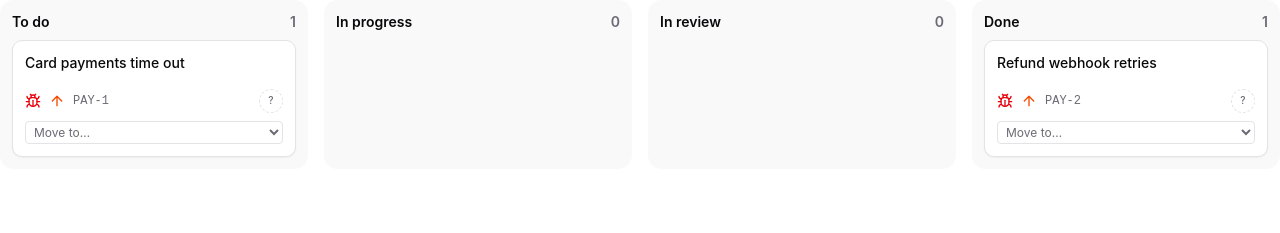
Board › shows the server message when a move fails
Select "In progress" in the dropdown named "Move PAY-1": x=154, y=132 [25,121,283,144]
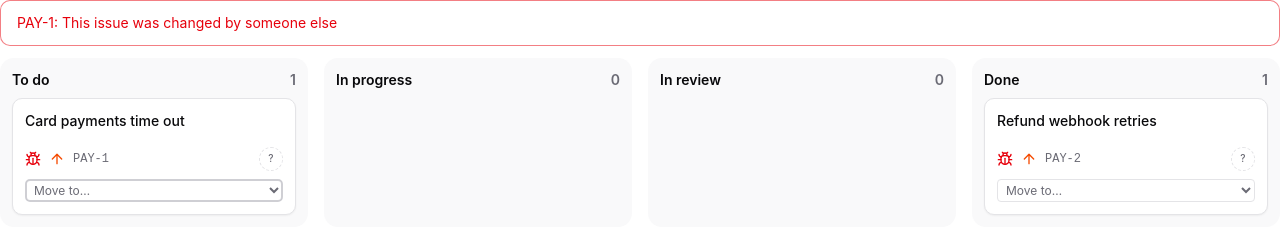
Expected: the text "PAY-1: This issue was changed by someone else" is shown, [0,0,1279,46]
